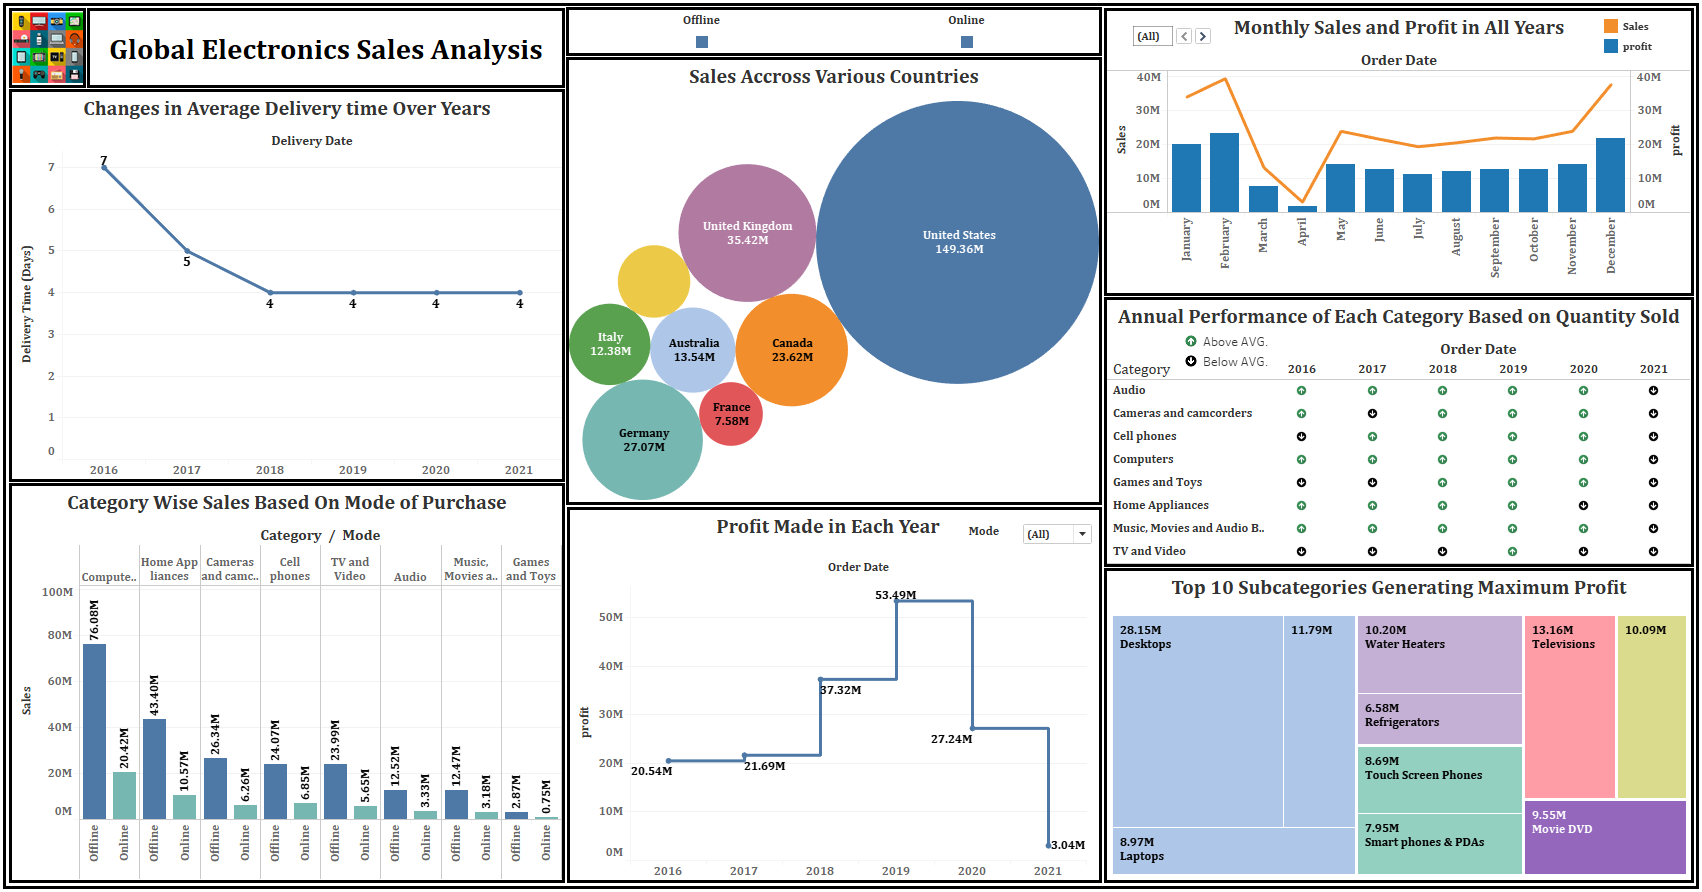

The page's visual inventory and layout, read from the dashboard file:
{"tool":"tableau","page":{"name":"Dashboard","canvas":[1000,1000],"units":"permille","ordinal":0},"visuals":[{"type":"blank","box":[2.9,5.6,992.6,988.8]},{"type":"worksheet","title":"Mode of Purchase Filter","mark":"Square","cols":["Mode"],"box":[332.4,10,313.6,54.7]},{"type":"image","param":"C:/Users/gazkl/Downloads/Electronics Project Image.jpg","box":[6.3,11.2,45.2,89.3]},{"type":"text","box":[52.1,11.2,279.7,89.3]},{"type":"worksheet","title":"Monthly Sales and Profit in All Years","mark":"Line","rows":["Sales","Calculation_1951184538846781441"],"cols":["Order Date"],"box":[647.2,11.2,345.2,321.4]},{"type":"legend","title":"Monthly Sales and Profit in All Years","param":"[federated.0xukr6e043nlxl15gi4fe0z52fcx].[:Measure Names]","box":[938,20.1,43.9,53.6]},{"type":"filter","title":"Monthly Sales and Profit in All Years","param":"[federated.0xukr6e043nlxl15gi4fe0z52fcx].[yr:Order Date:ok]","box":[662.4,27.9,49.7,30.1]},{"type":"worksheet","title":"Sales Accross Various Continents and Countries","mark":"Circle","box":[332.4,65.8,313.6,500]},{"type":"worksheet","title":"Changes in Average Delivery time Over Years","mark":"Automatic","rows":["Calculation_2230689258852274179"],"cols":["Delivery Date"],"box":[6.4,101.6,325.3,438.6]},{"type":"worksheet","title":"Performance of Each Category Based on Quantity Sold","mark":"Shape","rows":["Category"],"cols":["Order Date"],"box":[647.2,333.7,345.2,301.3]},{"type":"legend","title":"Performance of Each Category Based on Quantity Sold","param":"[federated.0xukr6e043nlxl15gi4fe0z52fcx].[usr:Calculation_1256785771119759362:nk","box":[691.6,371.7,55,44.6]},{"type":"worksheet","title":"Category Wise Sales Based On Mode of Purchase","mark":"Automatic","rows":["Sales"],"cols":["Category","Mode"],"box":[6.4,541.3,325.3,446.4]},{"type":"worksheet","title":"Profit Made in Each Year","mark":"Automatic","rows":["Calculation_1951184538846781441"],"cols":["Order Date"],"box":[332.9,568.1,313.1,419.6]},{"type":"filter","title":"Profit Made in Each Year","param":"[federated.0xukr6e043nlxl15gi4fe0z52fcx].[none:Mode:nk]","box":[555.9,583.7,86,38]},{"type":"worksheet","title":"Top 10 Subcategories Generating Maximum Profit","mark":"Automatic","box":[647.2,636.2,345.2,351.6]}]}

Visuals, with their boxes on the dashboard's canvas, which has no fixed pixel size, in thousandths of its width and height (x1, y1, x2, y2). These are canvas units, not pixel positions in the 1702x892 screenshot, which may show the page scaled, cropped or inside an application window:
blank: [3, 6, 996, 994]
"Mode of Purchase Filter" worksheet (Square marks): [332, 10, 646, 65]
image: [6, 11, 52, 100]
text: [52, 11, 332, 100]
"Monthly Sales and Profit in All Years" worksheet (Line marks): [647, 11, 992, 333]
"Monthly Sales and Profit in All Years" legend: [938, 20, 982, 74]
"Monthly Sales and Profit in All Years" filter: [662, 28, 712, 58]
"Sales Accross Various Continents and Countries" worksheet (Circle marks): [332, 66, 646, 566]
"Changes in Average Delivery time Over Years" worksheet: [6, 102, 332, 540]
"Performance of Each Category Based on Quantity Sold" worksheet (Shape marks): [647, 334, 992, 635]
"Performance of Each Category Based on Quantity Sold" legend: [692, 372, 747, 416]
"Category Wise Sales Based On Mode of Purchase" worksheet: [6, 541, 332, 988]
"Profit Made in Each Year" worksheet: [333, 568, 646, 988]
"Profit Made in Each Year" filter: [556, 584, 642, 622]
"Top 10 Subcategories Generating Maximum Profit" worksheet: [647, 636, 992, 988]
